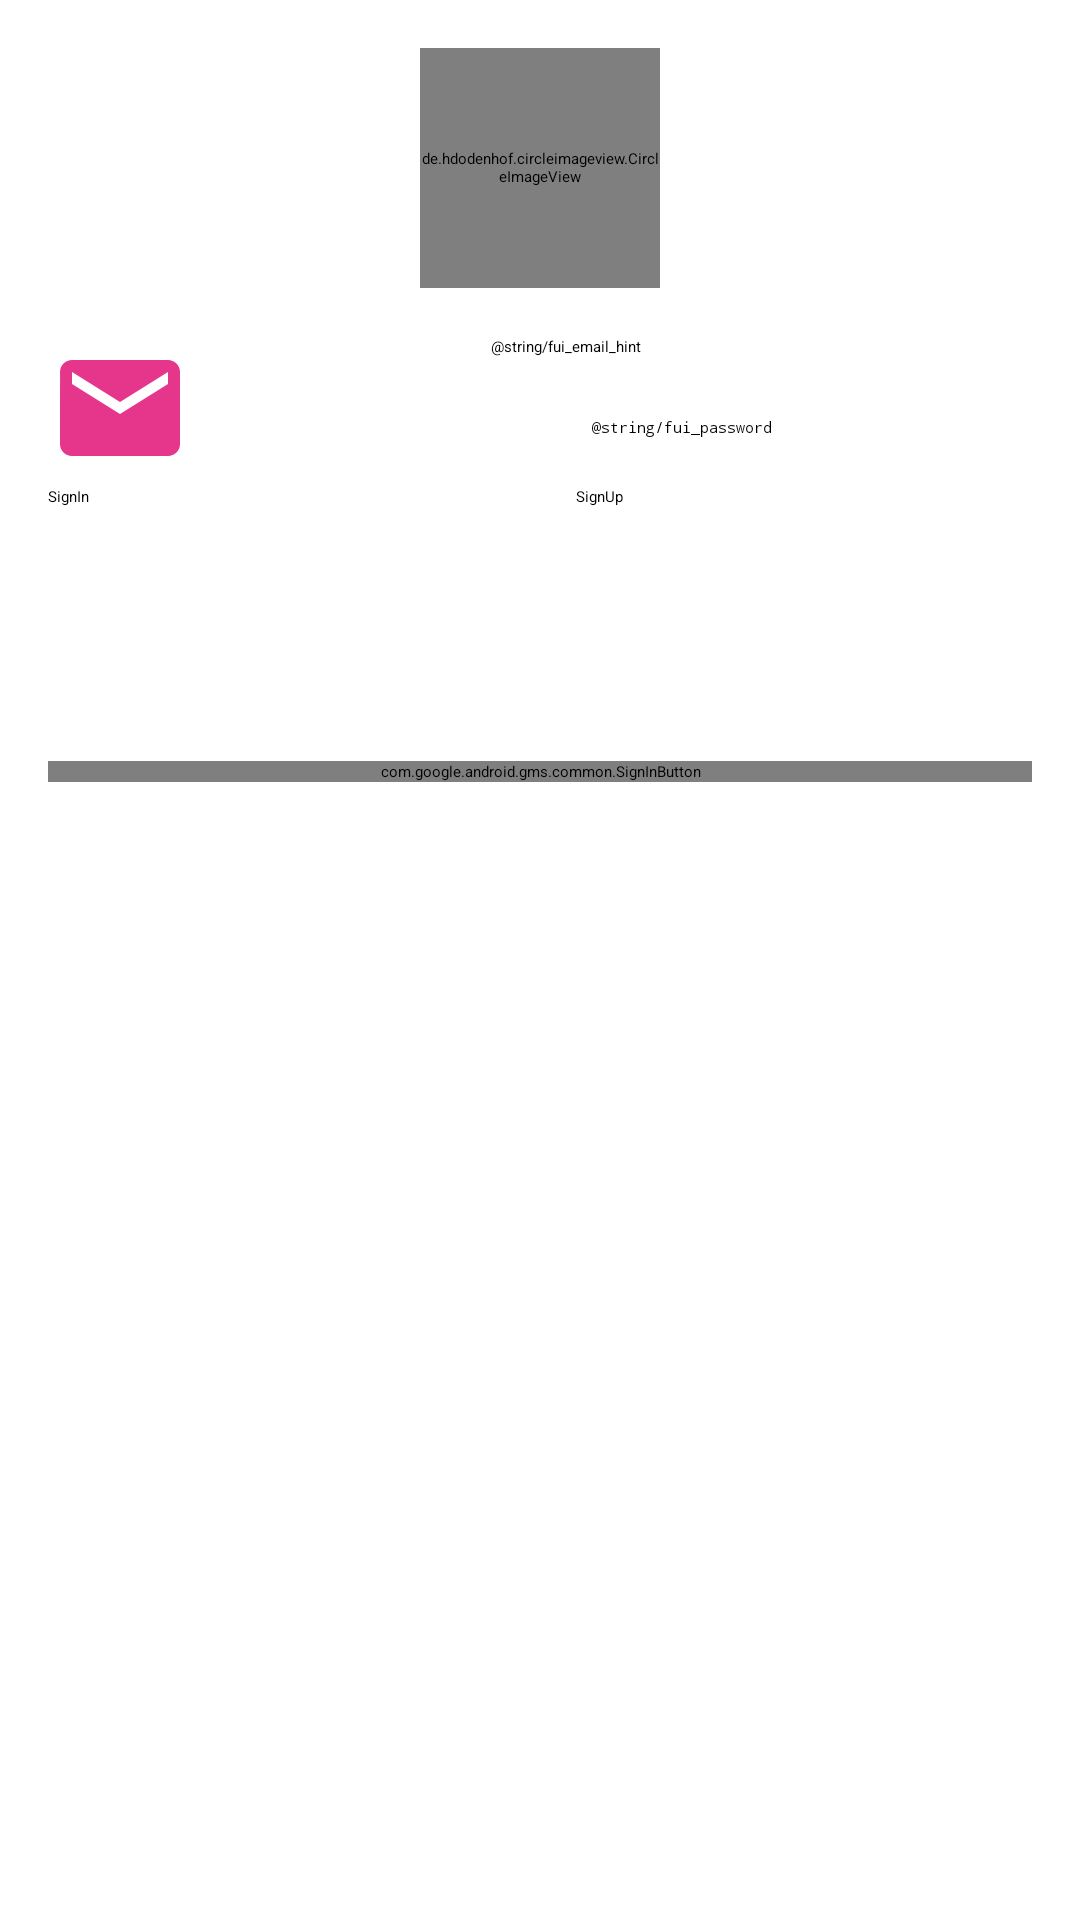

Where icons sit on this 1080px×1920px app screen, as box=[x1, y1, x2, y2]:
Insert email: box=[60, 360, 180, 456]
